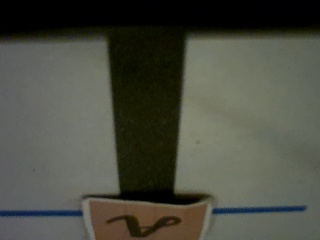A: (89, 200, 205, 240)
